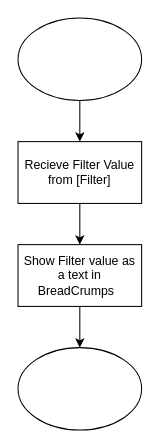
Image size: 160x448. Some labels were removed from this diagram. The centre of each missing label's shape, as x and y in pixels:
"END" belongs at point (79, 388).
"Start" belongs at point (79, 58).
